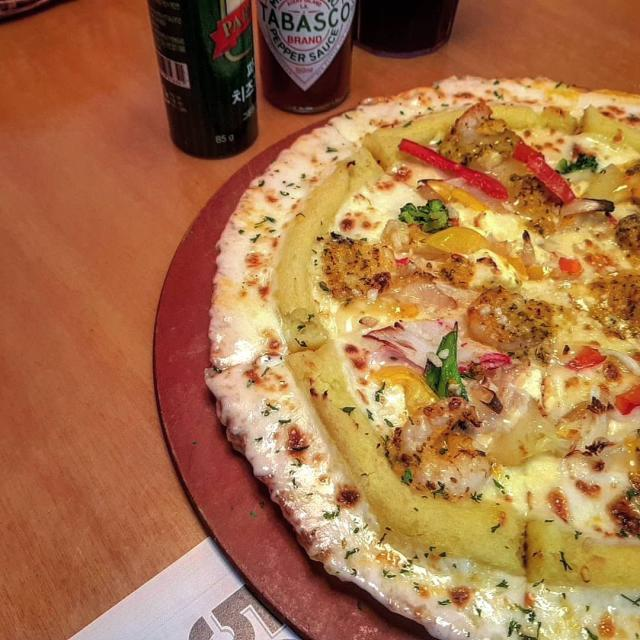peppers: (396, 136, 517, 210), (510, 130, 584, 204), (372, 360, 445, 428), (424, 325, 468, 405), (427, 223, 502, 262), (566, 336, 603, 369), (611, 378, 636, 418), (559, 255, 587, 284)
pizza: (203, 76, 640, 640)
